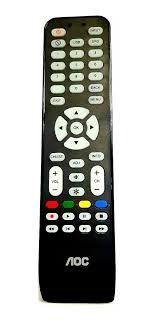remote control: (40, 16, 114, 309)
